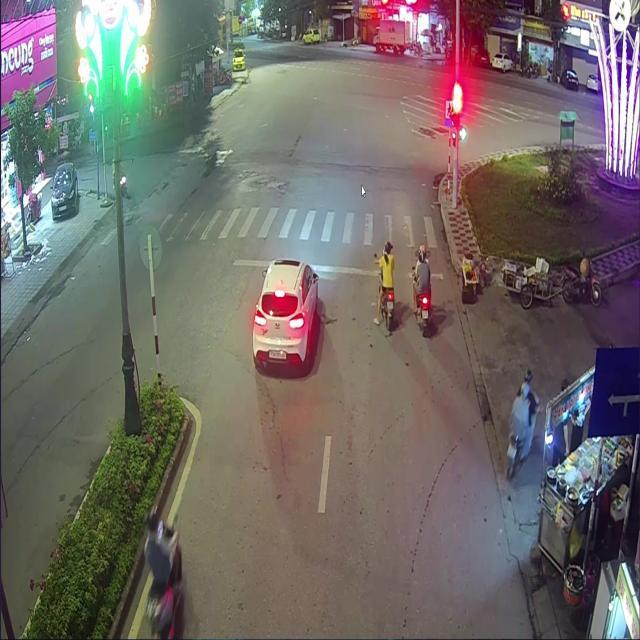car: (251, 257, 320, 374)
motobike: (143, 513, 182, 639), (378, 287, 393, 333), (416, 292, 429, 335)
red_light: (452, 97, 459, 127)
stop_line: (231, 258, 442, 280)
